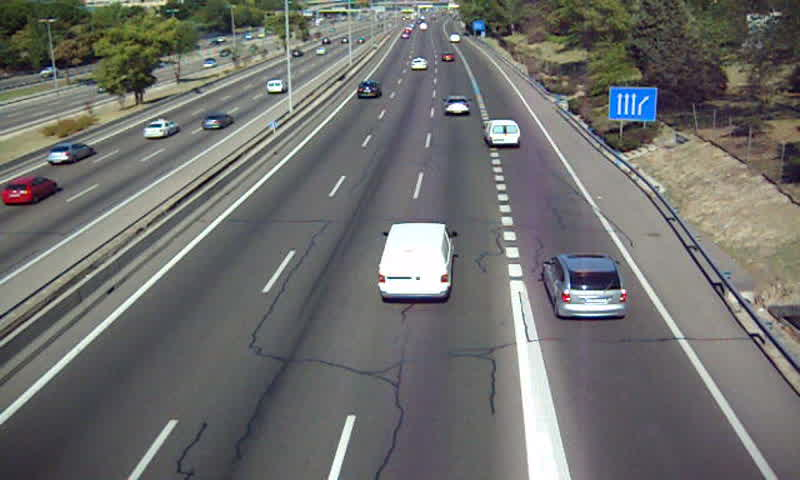car: (545, 254, 626, 318), (442, 95, 473, 117), (356, 81, 380, 100), (409, 56, 428, 71), (440, 51, 456, 64)
van: (377, 223, 452, 301), (484, 121, 521, 148)
